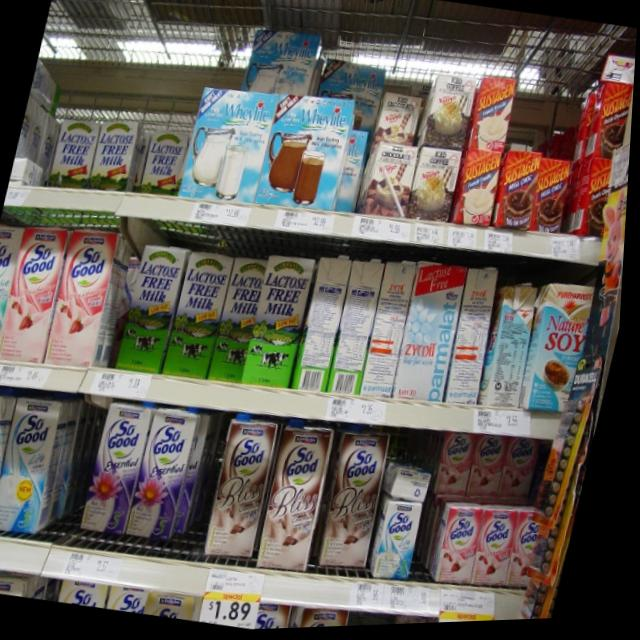q262: (0, 393, 83, 540), (0, 381, 20, 540)
